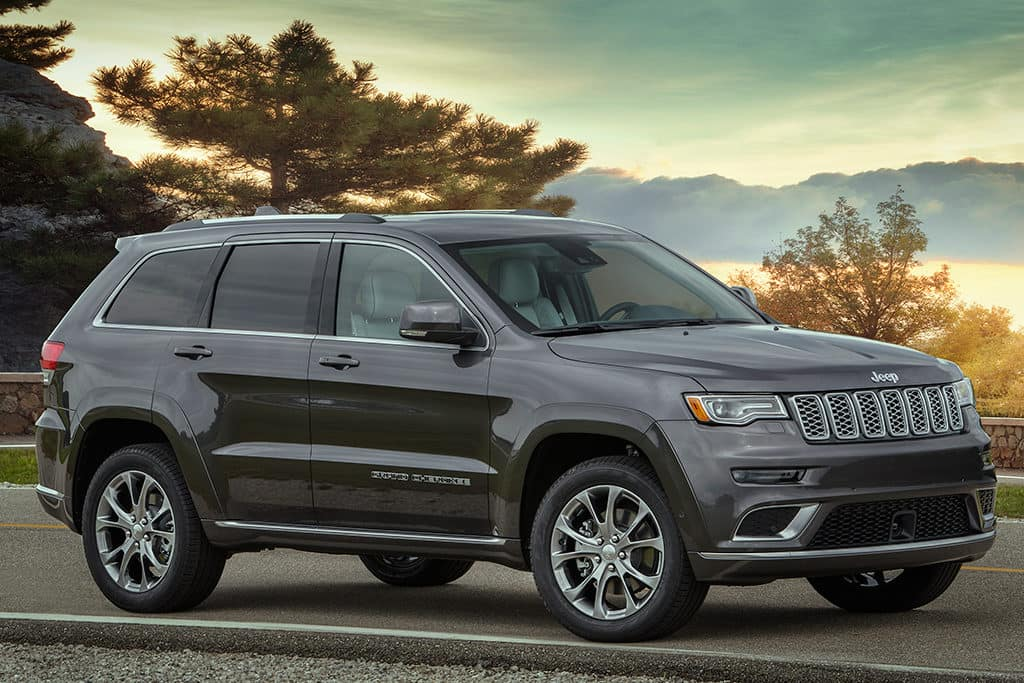car: (34, 209, 997, 642)
